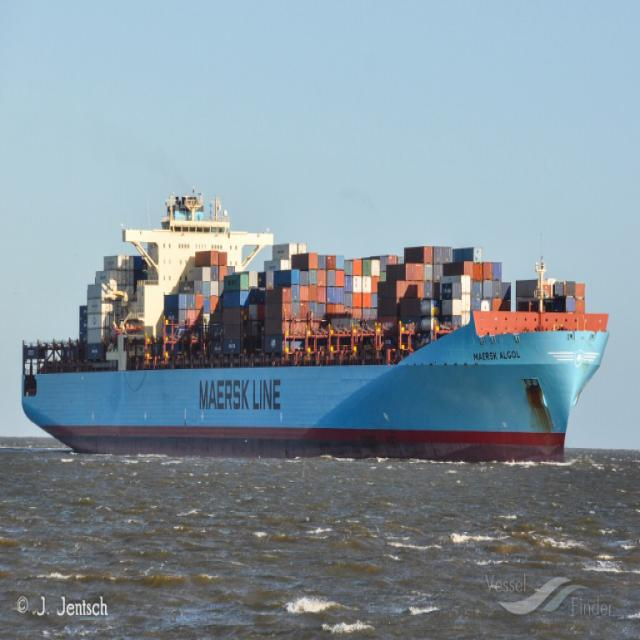Container Ship: (23, 205, 610, 450)
